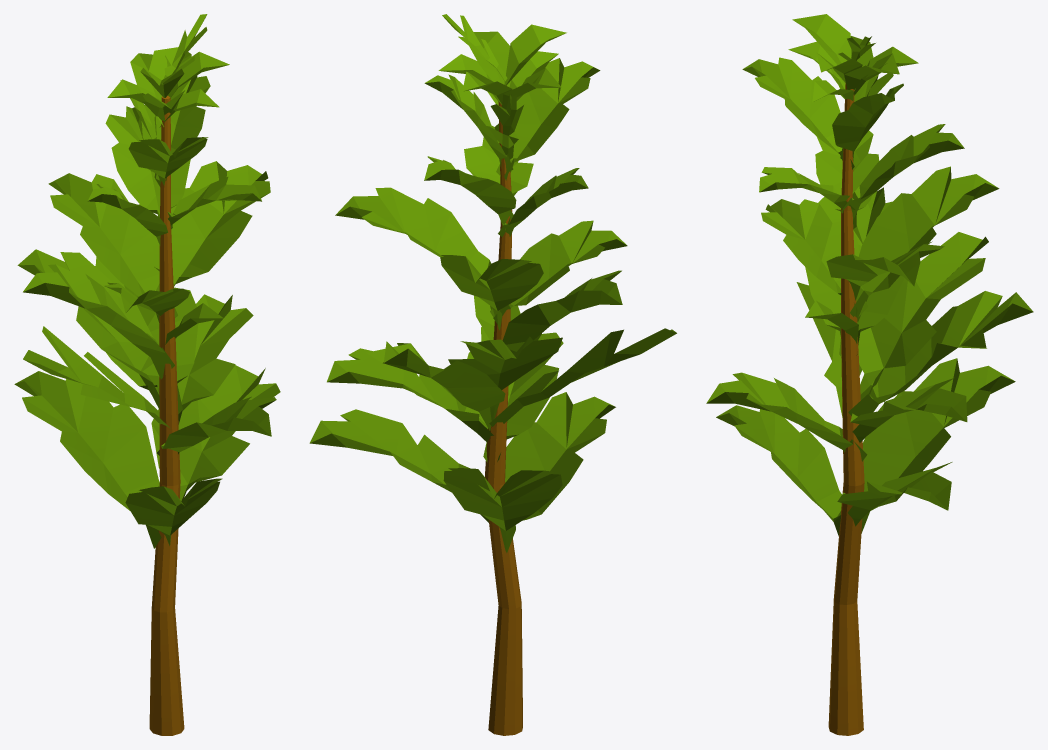
The model's file is pinheiro_medio.glb.
The picture shows the model from 3 angles, left to right: view 1: azimuth 30°, elevation 25°; view 2: azimuth 150°, elevation 25°; view 3: azimuth 270°, elevation 25°; orthographic projection. The views are drawn at different scales.
Visible parts, largest first — view 1: SM_FreeTree_03; view 2: SM_FreeTree_03; view 3: SM_FreeTree_03.
Boxes of the visible parts, box(x1,y1,x2,y2) form: SM_FreeTree_03: box(14, 14, 280, 735); SM_FreeTree_03: box(309, 14, 676, 735); SM_FreeTree_03: box(706, 14, 1033, 735).
Bounding box in the file's own units: 2.05 × 4.55 × 1.88.
Materials: 1 (1 with a texture image).
